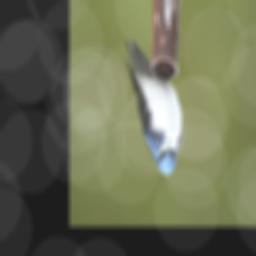Swallow: (123, 39, 183, 176)
